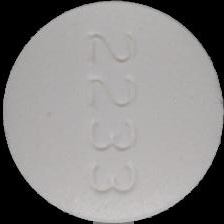68084-935: (0, 0, 224, 224)
